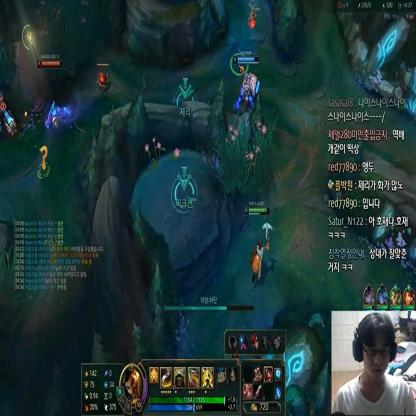streamer: (332, 312, 416, 416)
